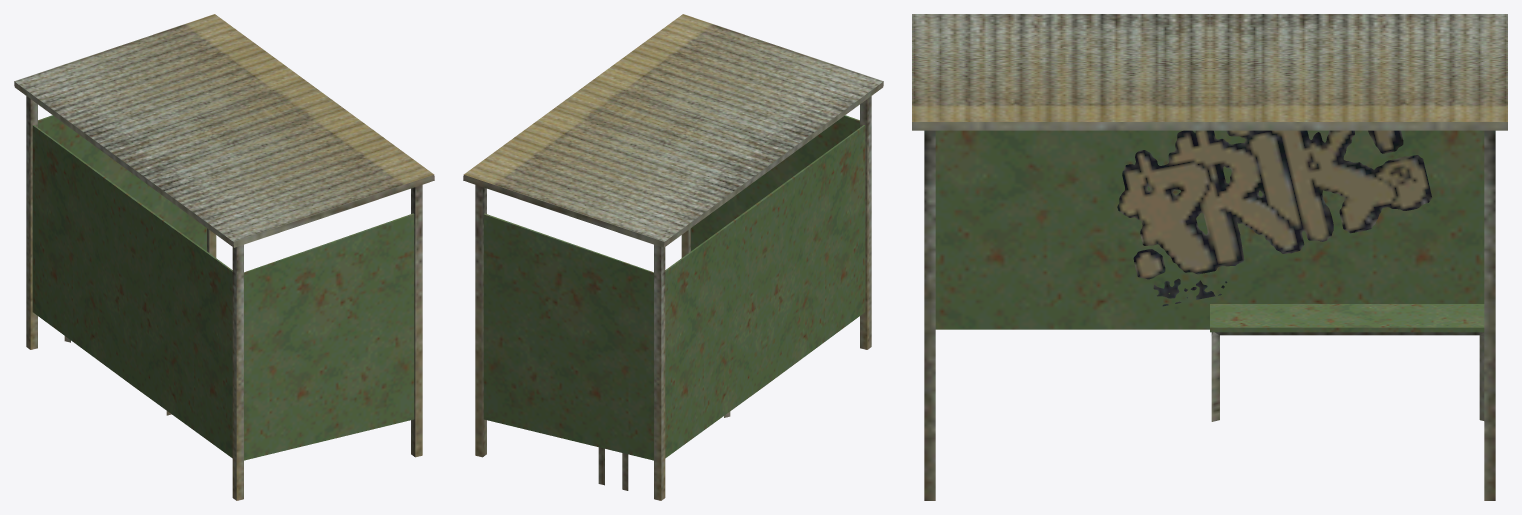
File: Urban_BusstopGraffitiAlt_Model.fbx
3 renders of one model, left to right at view 1: azimuth 30°, elevation 25°; view 2: azimuth 150°, elevation 25°; view 3: azimuth 270°, elevation 25°, orthographic. The views are drawn at different scales.
Parts seen in each view (by area): view 1: Urban_BusstopGraffitiAlt_Mesh; view 2: Urban_BusstopGraffitiAlt_Mesh; view 3: Urban_BusstopGraffitiAlt_Mesh.
Boxes of the visible parts, x1,y1,x2,y2 form: Urban_BusstopGraffitiAlt_Mesh: [14, 14, 434, 500]; Urban_BusstopGraffitiAlt_Mesh: [463, 14, 883, 500]; Urban_BusstopGraffitiAlt_Mesh: [912, 14, 1507, 500].
Bounding box in the file's own units: 2.26 × 3.03 × 4.26.
